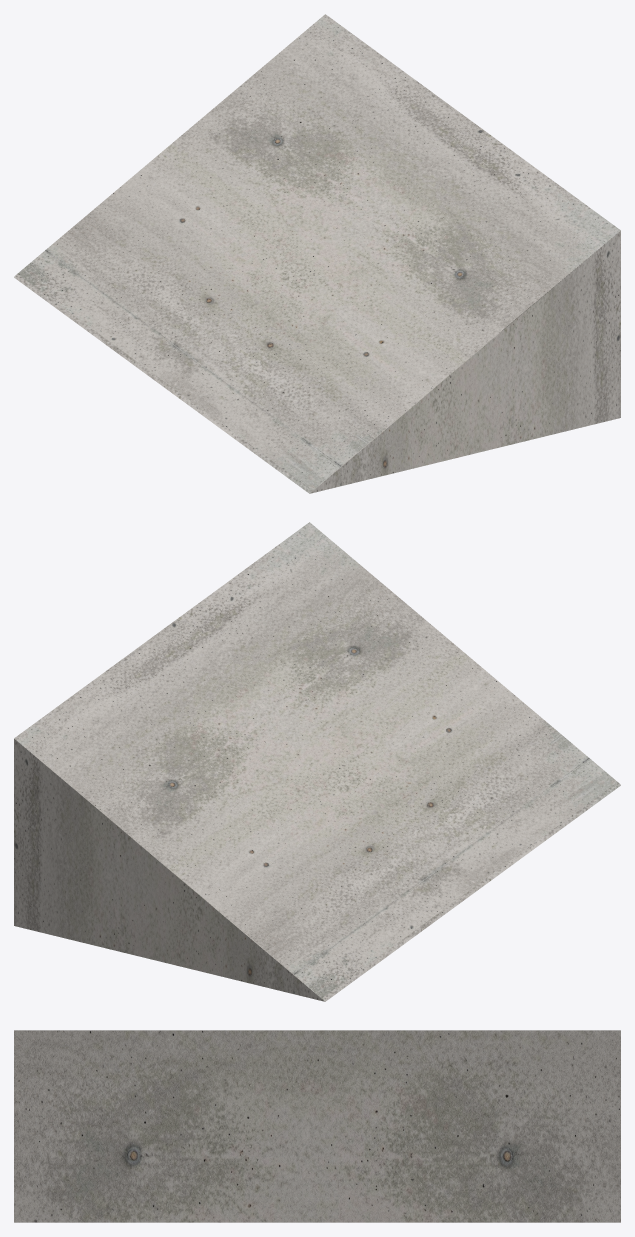
File: stonerampsmall.glb
The picture shows the model from 3 angles, top to bottom: view 1: azimuth 30°, elevation 25°; view 2: azimuth 150°, elevation 25°; view 3: azimuth 270°, elevation 25°; orthographic projection. The views are drawn at different scales.
Visible parts, largest first — view 1: Ramp_Oak; view 2: Ramp_Oak; view 3: Ramp_Oak.
Boxes of the visible parts, <box> form: Ramp_Oak: <box>14,14,620,493</box>; Ramp_Oak: <box>14,522,620,1001</box>; Ramp_Oak: <box>14,1030,620,1222</box>.
Size of the model in its own units: 0.6082 by 0.35 by 1.
1 material, 1 textured.
